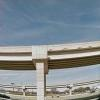Bridge: (5, 31, 97, 77)
